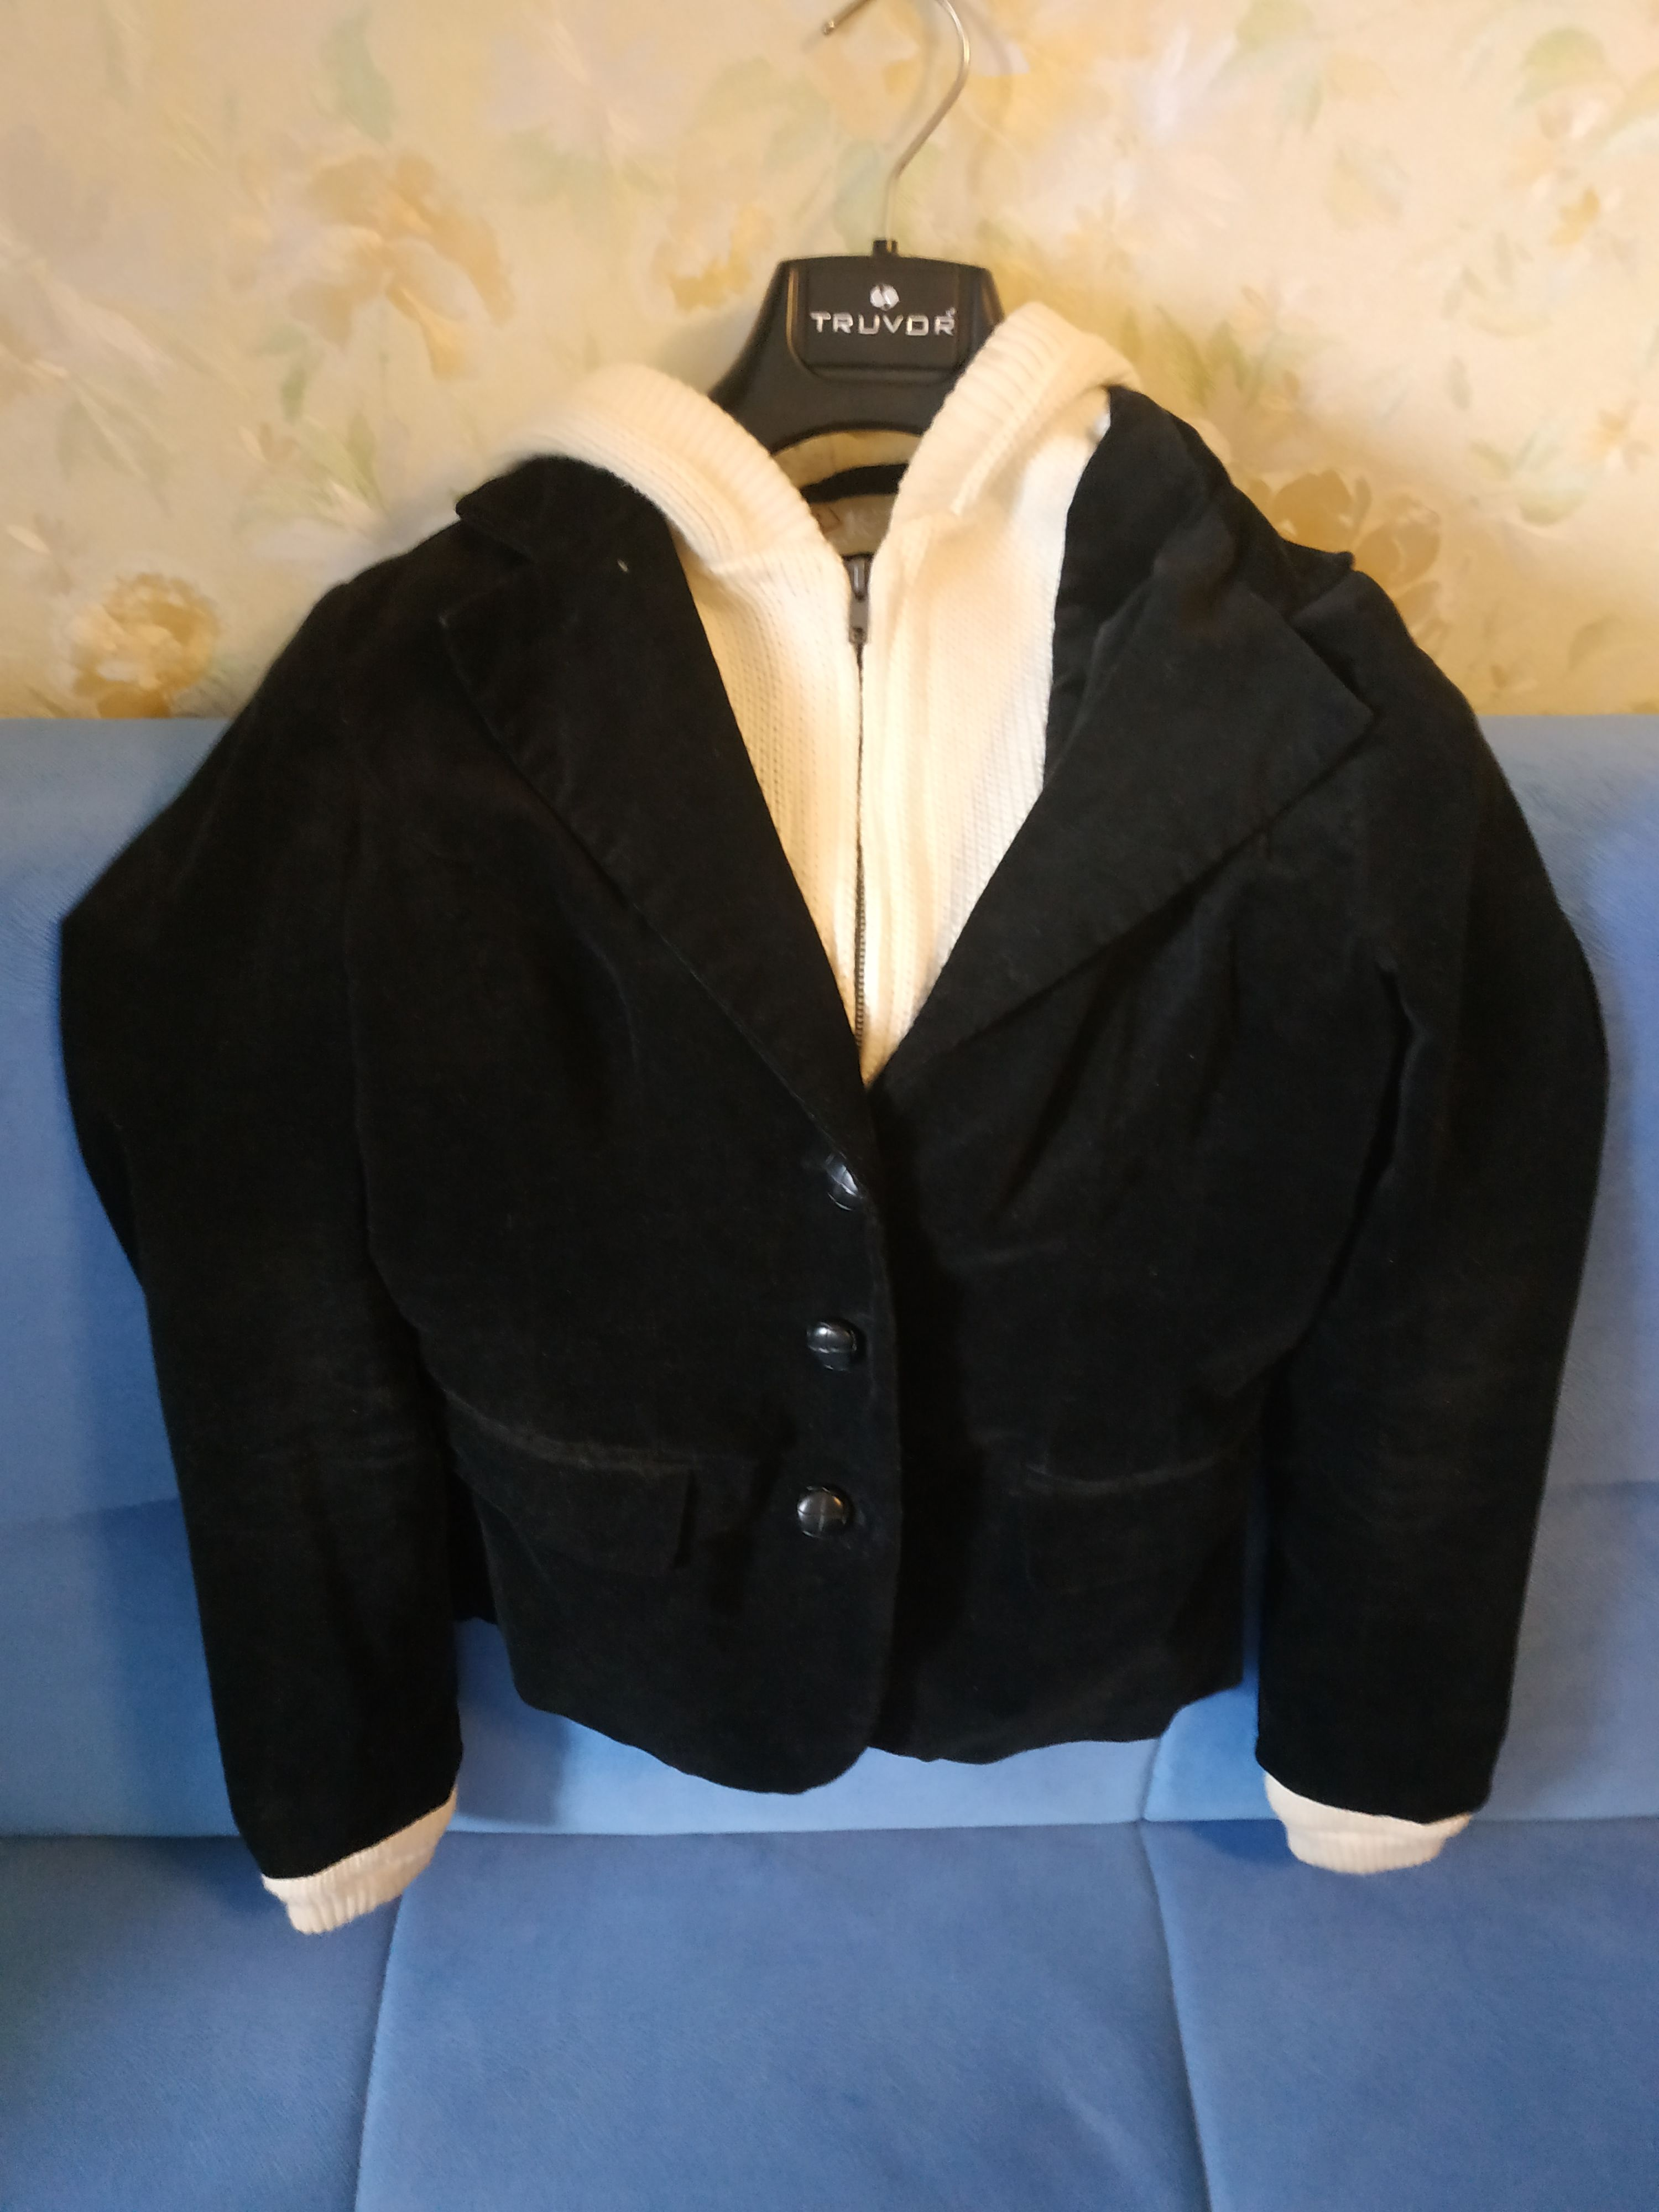clothes: (35, 369, 1626, 1897)
